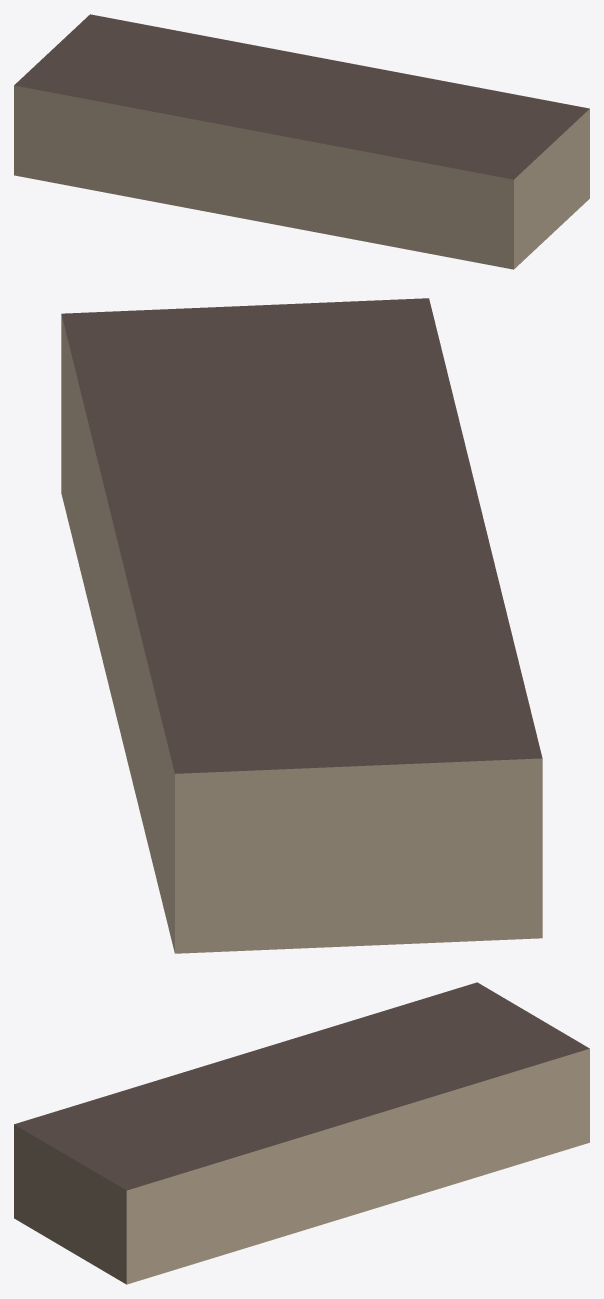
The picture shows the model from 3 angles, top to bottom: view 1: azimuth 30°, elevation 25°; view 2: azimuth 150°, elevation 25°; view 3: azimuth 270°, elevation 25°; orthographic projection. The views are drawn at different scales.
Visible parts, largest first — view 1: HP-w859424219; view 2: HP-w859424219; view 3: HP-w859424219.
Boxes of the visible parts, x1,y1,x2,y2 form: HP-w859424219: [14, 14, 589, 269]; HP-w859424219: [61, 298, 542, 953]; HP-w859424219: [14, 982, 589, 1284].
Size of the model in its own units: 42.74 by 9 by 49.95.
